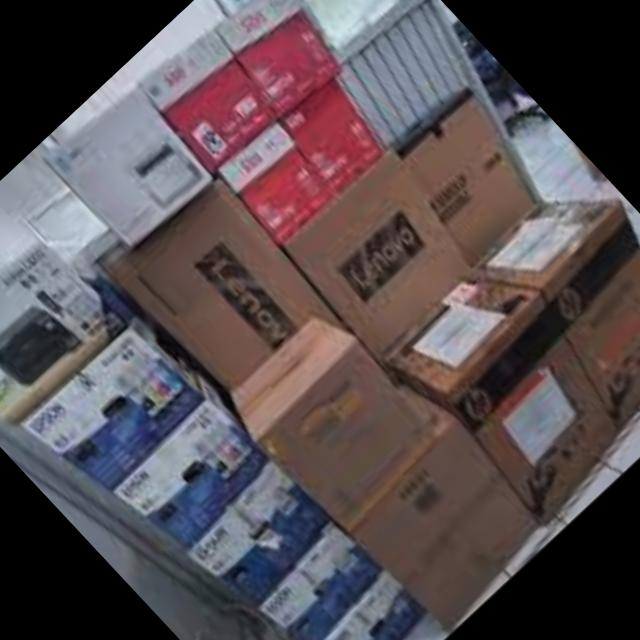Kardus: (219, 293, 563, 640), (380, 165, 640, 529), (136, 0, 390, 243), (14, 306, 220, 508), (39, 76, 219, 257), (0, 292, 82, 397)
